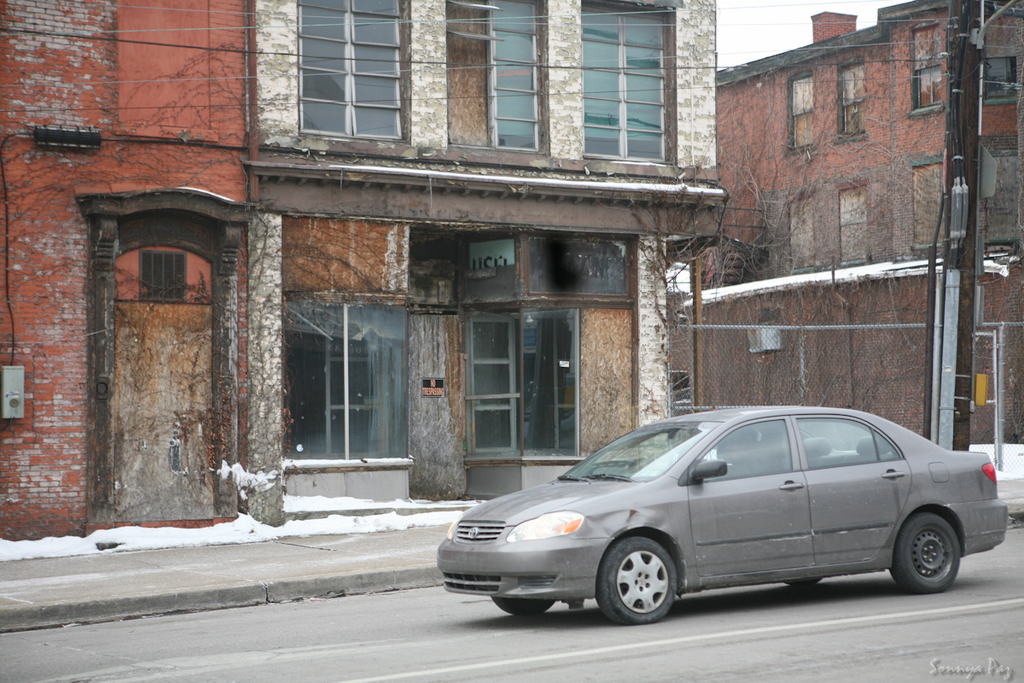Car: (410, 407, 1017, 633)
